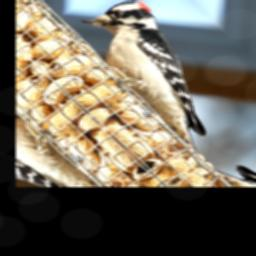Woodpecker: (62, 0, 256, 154)
